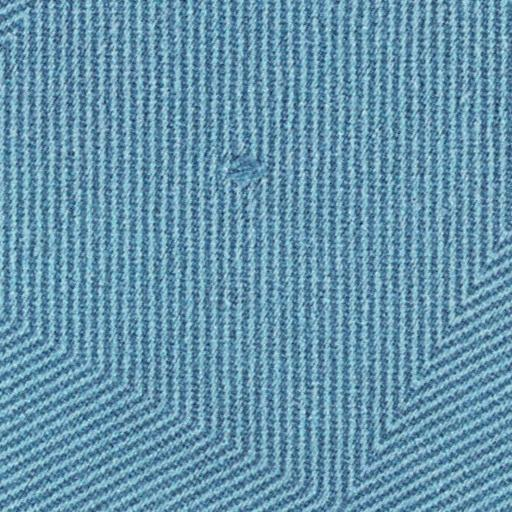knot: (208, 148, 279, 206)
